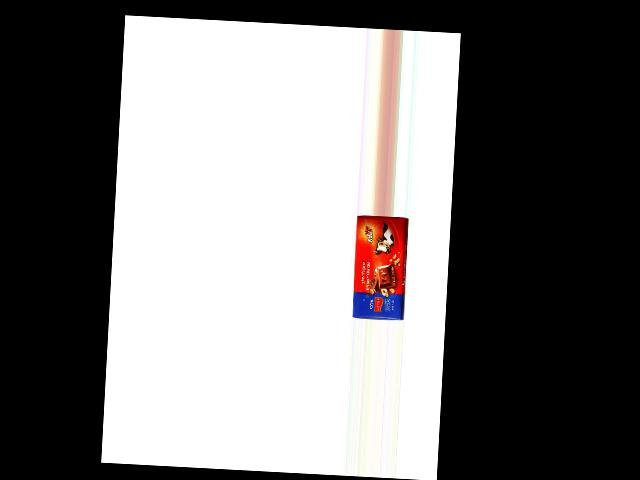chocolate: (352, 215, 413, 319)
